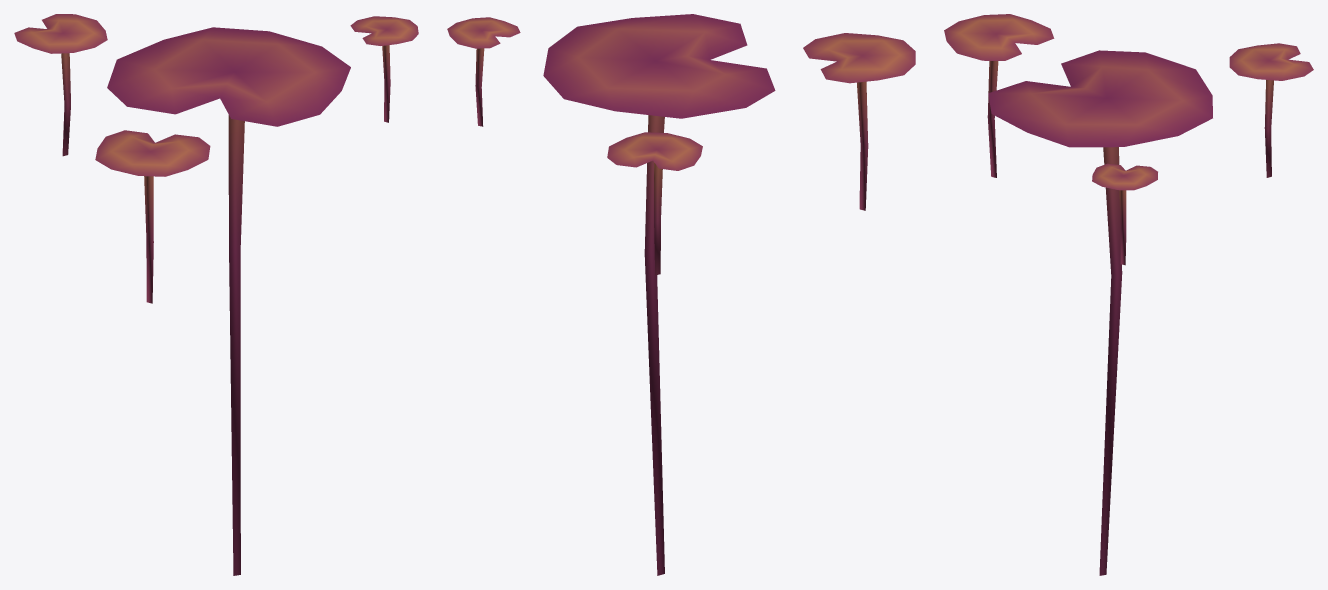
File: Water_Plant_2C.fbx
The picture shows the model from 3 angles, left to right: view 1: azimuth 30°, elevation 25°; view 2: azimuth 150°, elevation 25°; view 3: azimuth 270°, elevation 25°; orthographic projection. The views are drawn at different scales.
Visible parts, largest first — view 1: Water_Plant_2C; view 2: Water_Plant_2C; view 3: Water_Plant_2C.
Part boxes in pixels (x1,y1,x2,y2): Water_Plant_2C: [14, 14, 418, 575]; Water_Plant_2C: [447, 14, 915, 575]; Water_Plant_2C: [944, 14, 1313, 575].
Size of the model in its own units: 65.98 by 83.41 by 58.48.
